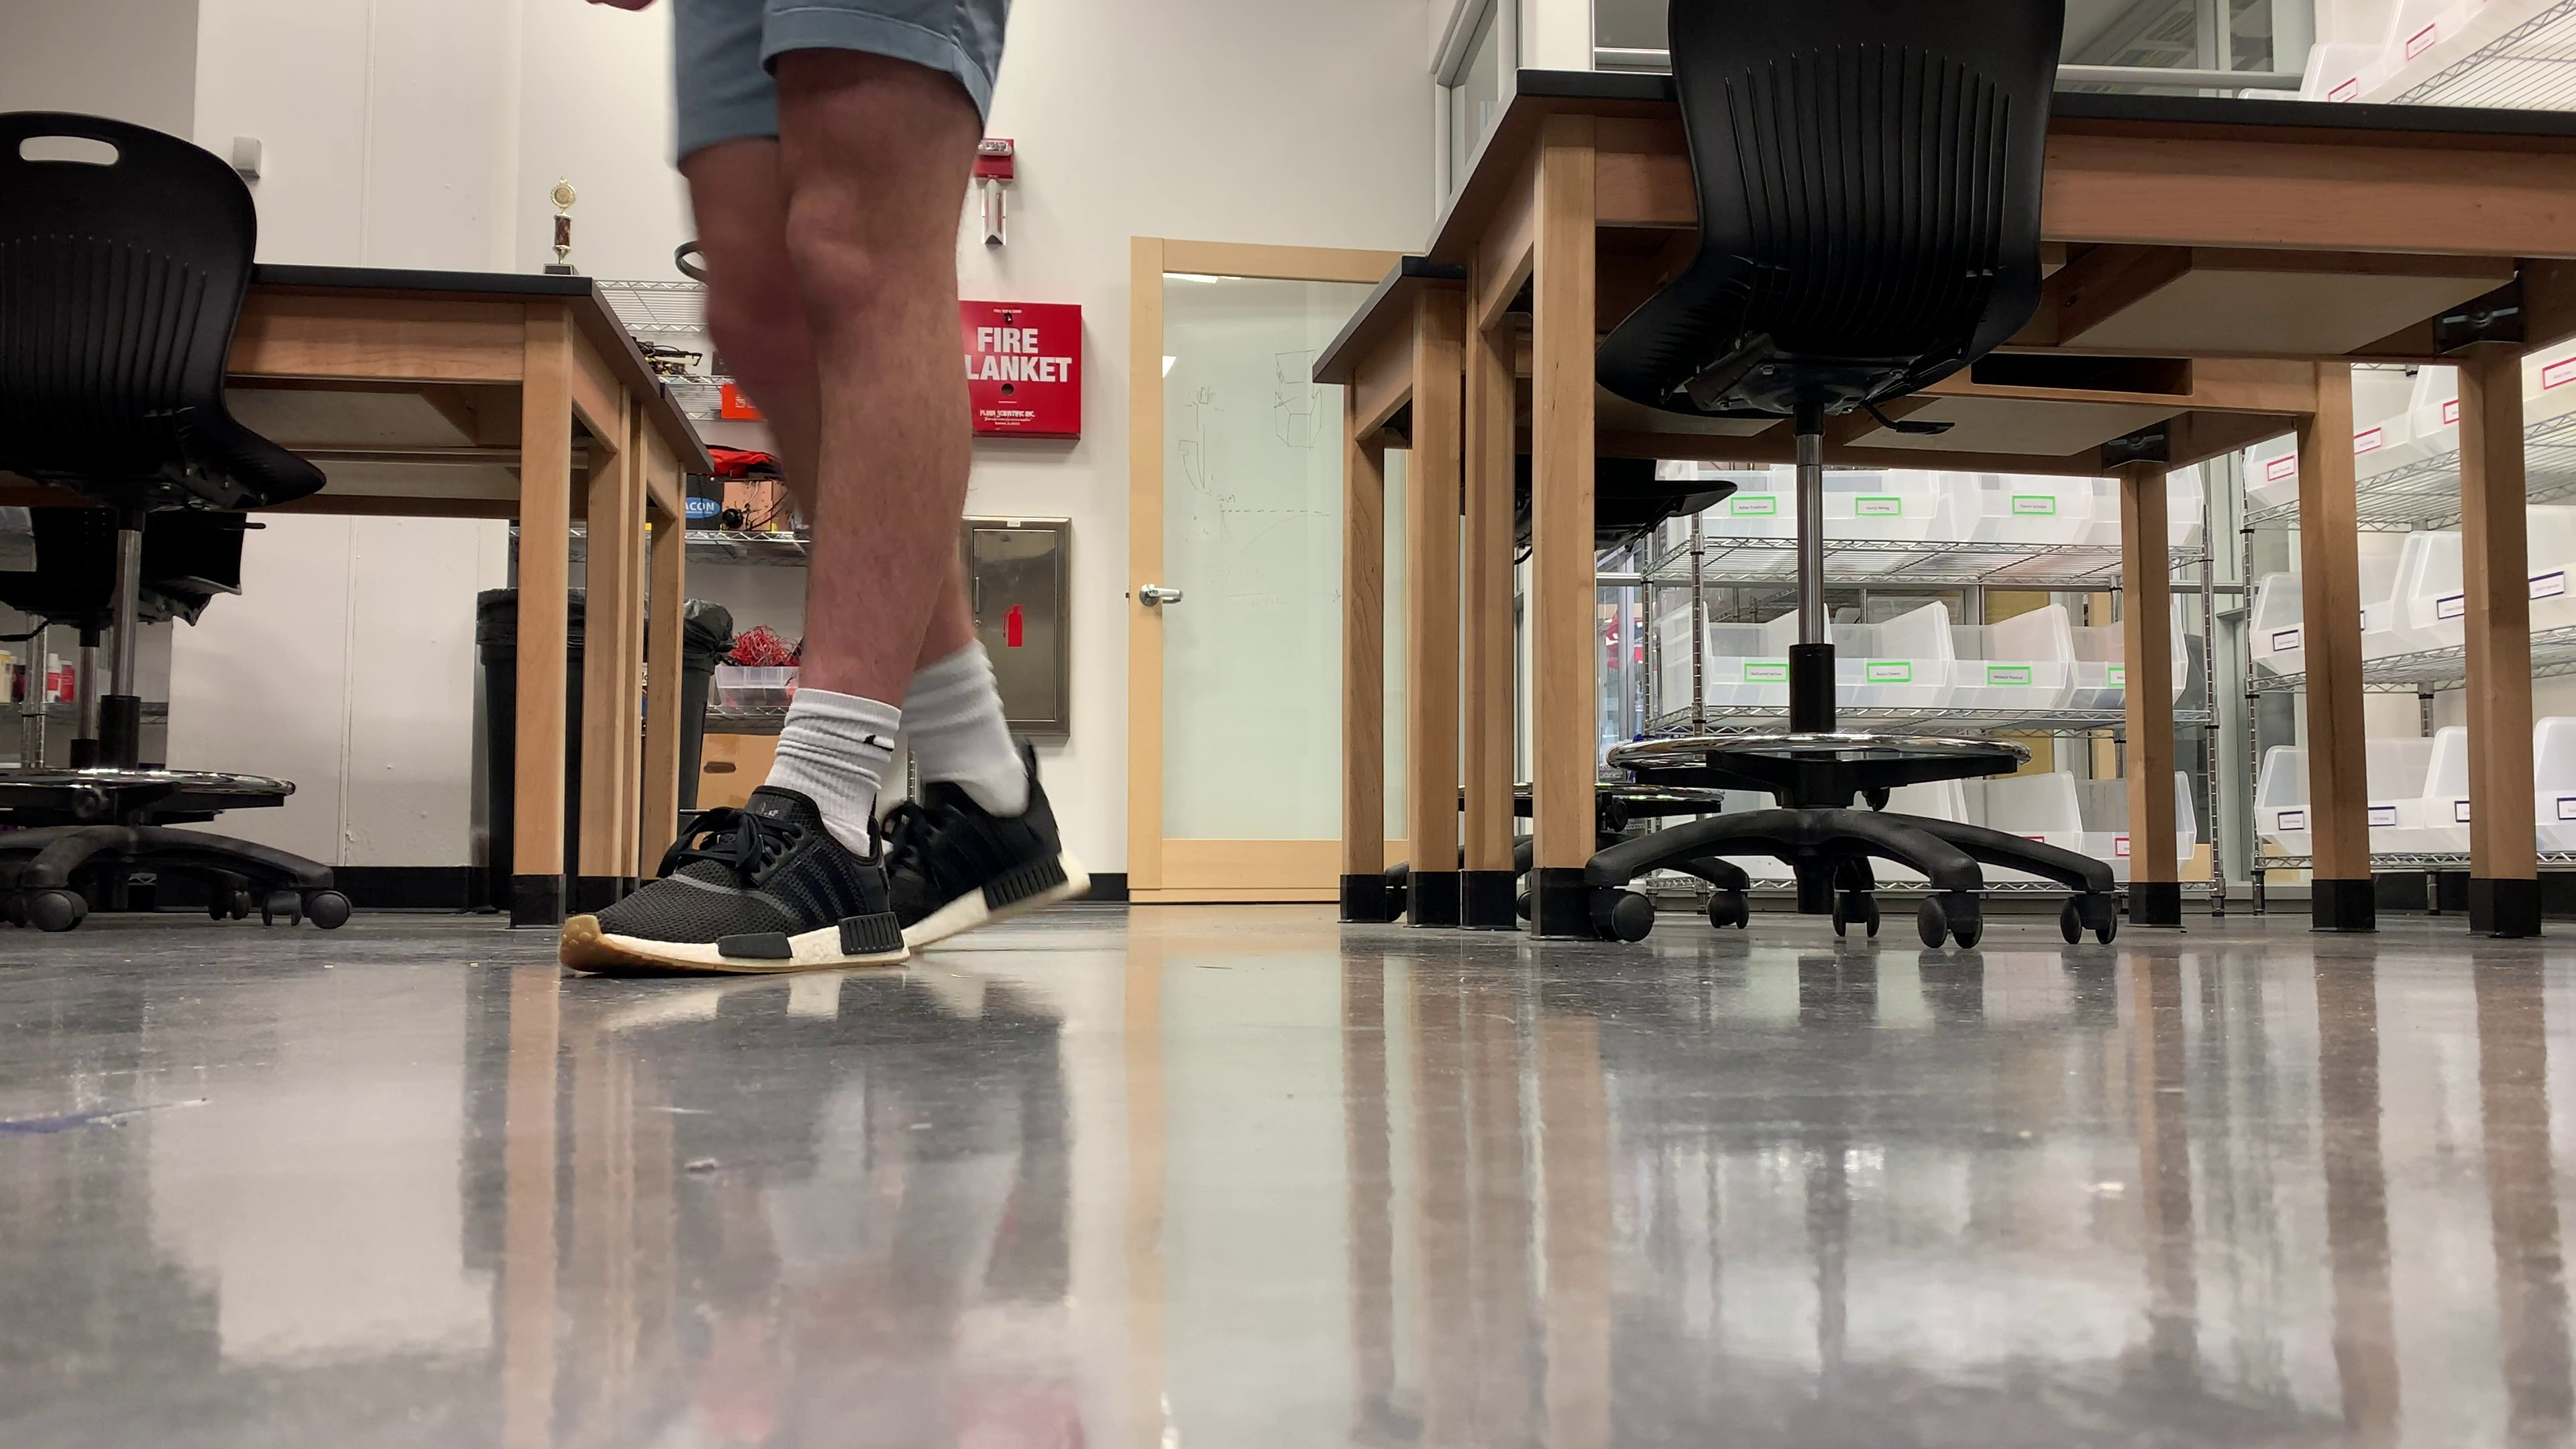shoe: (561, 786, 911, 973), (826, 741, 1092, 948)
